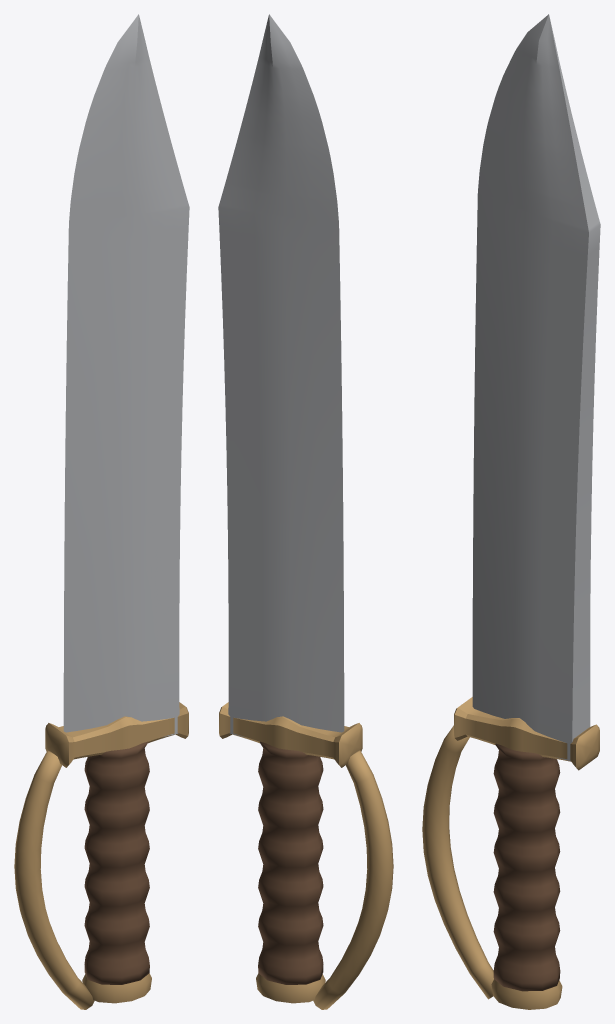
The model's file is butterfly-sword.glb.
The picture shows the model from 3 angles, left to right: view 1: azimuth 30°, elevation 25°; view 2: azimuth 150°, elevation 25°; view 3: azimuth 330°, elevation 25°; orthographic projection.
Parts seen in each view (by area): view 1: butterfly-sword; view 2: butterfly-sword; view 3: butterfly-sword.
Part boxes in pixels (<box>): butterfly-sword: <box>14,14,189,1009</box>; butterfly-sword: <box>218,14,393,1009</box>; butterfly-sword: <box>422,14,600,1009</box>.
Bounding box in the file's own units: 0.1967 × 1.1 × 0.0625.
